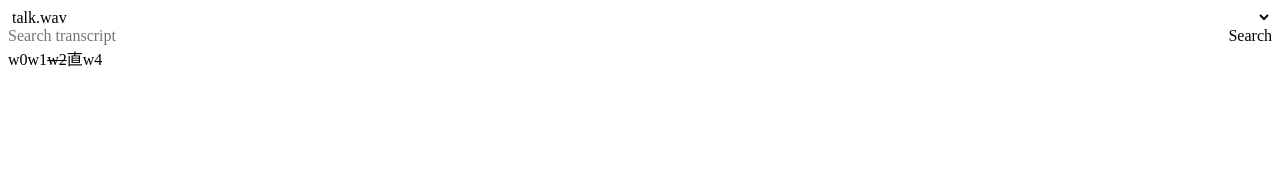
Test: StoryPanel の失敗と再生位置 › 断られた理由を出す
The width and height of the screenshot is (1280, 184).
Press the mouse on the button "w0" at [18, 60], box [8,51,28,68]
Hover over the button "w0" at [18, 60], box [8,51,28,68]
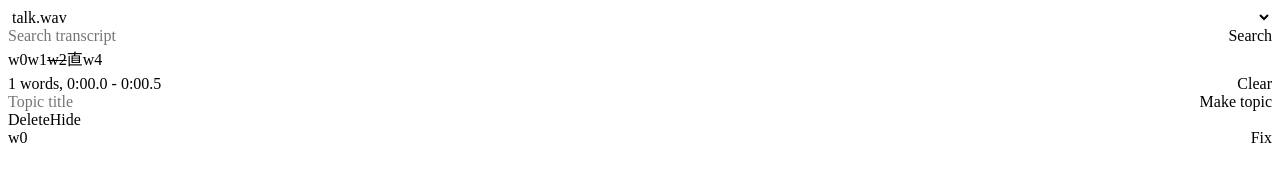
Click the button "Delete". click: [29, 120]
box: [8,111,50,129]
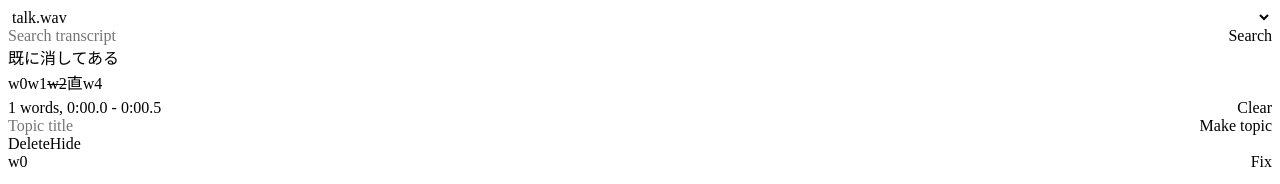
Now the text with class "mm-story-error" reads "既に消してある", box [8,50,119,67]
